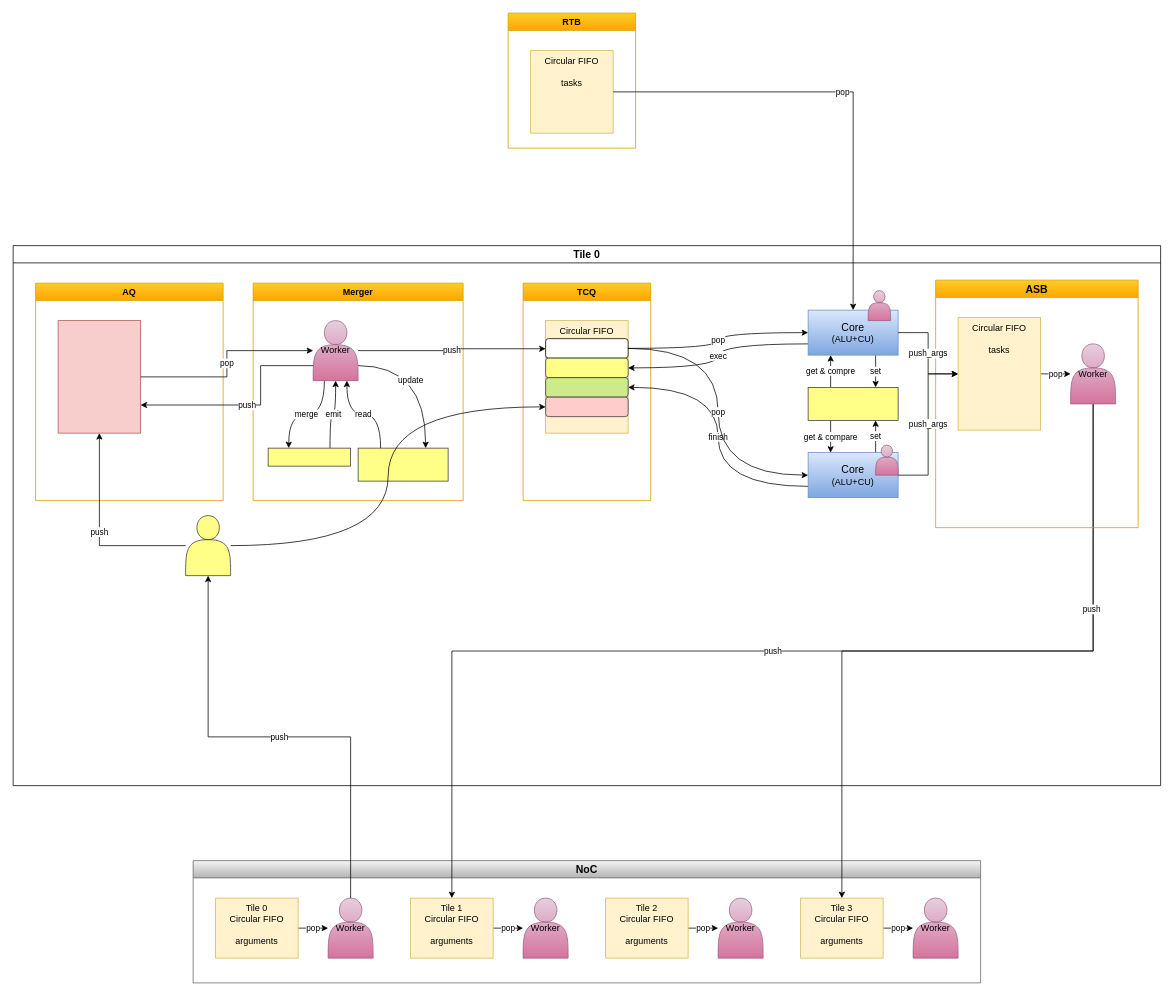
Some shapes in this 1174 by 996 pixel diagram are drawn without their labels. Each missing label, with the centre of its shape:
"Aborted" goes at point 586,406.
"Checker" goes at point 208,545.
"Finished" goes at point 586,387.
"Idle" goes at point 586,348.
"InputArgumentBuffer task->in data" goes at point 402,464.
"OutputArgumentBuffer task->out data" goes at point 852,403.
"Priority FIFO arguments" goes at point 99,376.
"Running" goes at point 586,367.
"task Slot" goes at point 309,456.
